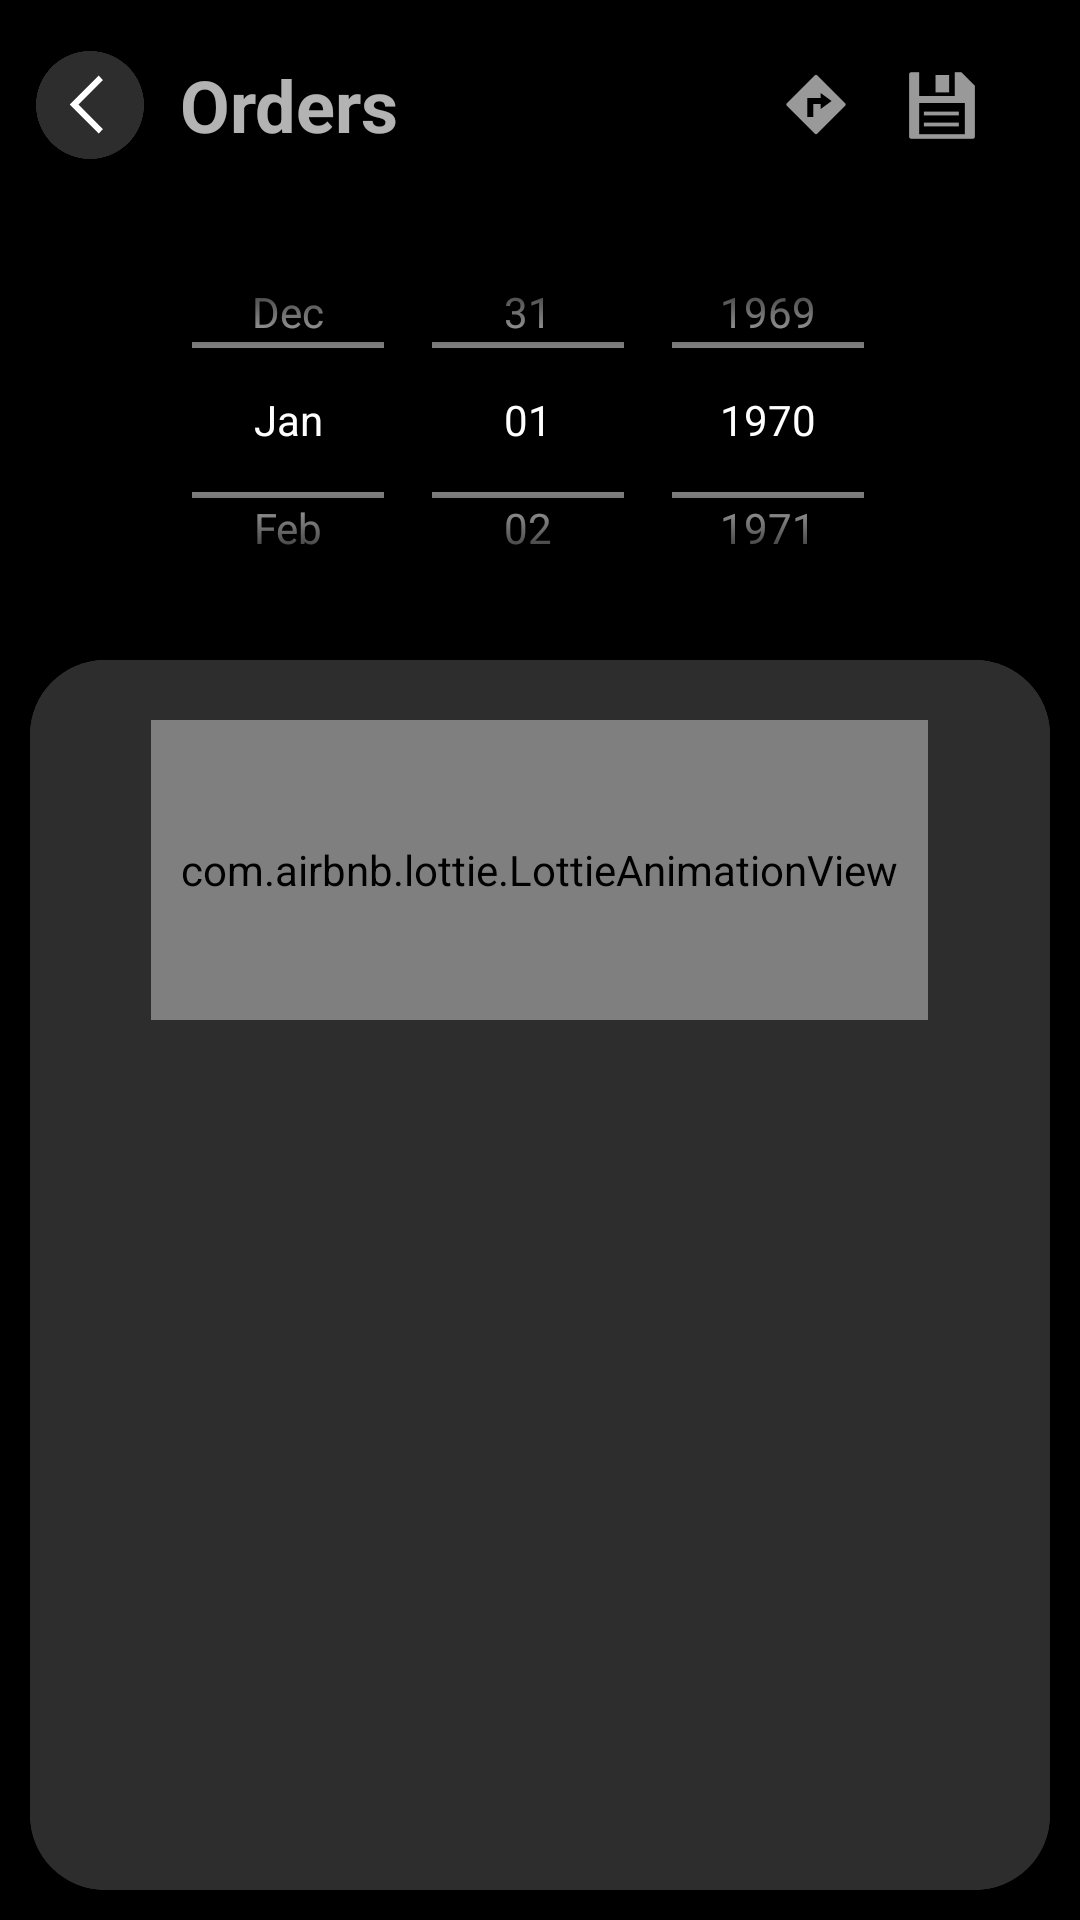

Icon bounding boxes for this 1080 × 1920 phone screenshot, format (x1, y1, x2, y2):
back: (36, 51, 144, 159)
directions: (786, 75, 846, 134)
save: (909, 72, 975, 139)
